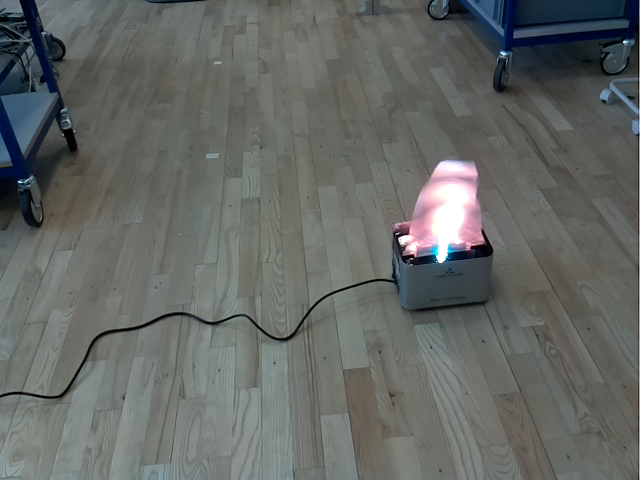fire: (397, 157, 487, 258)
